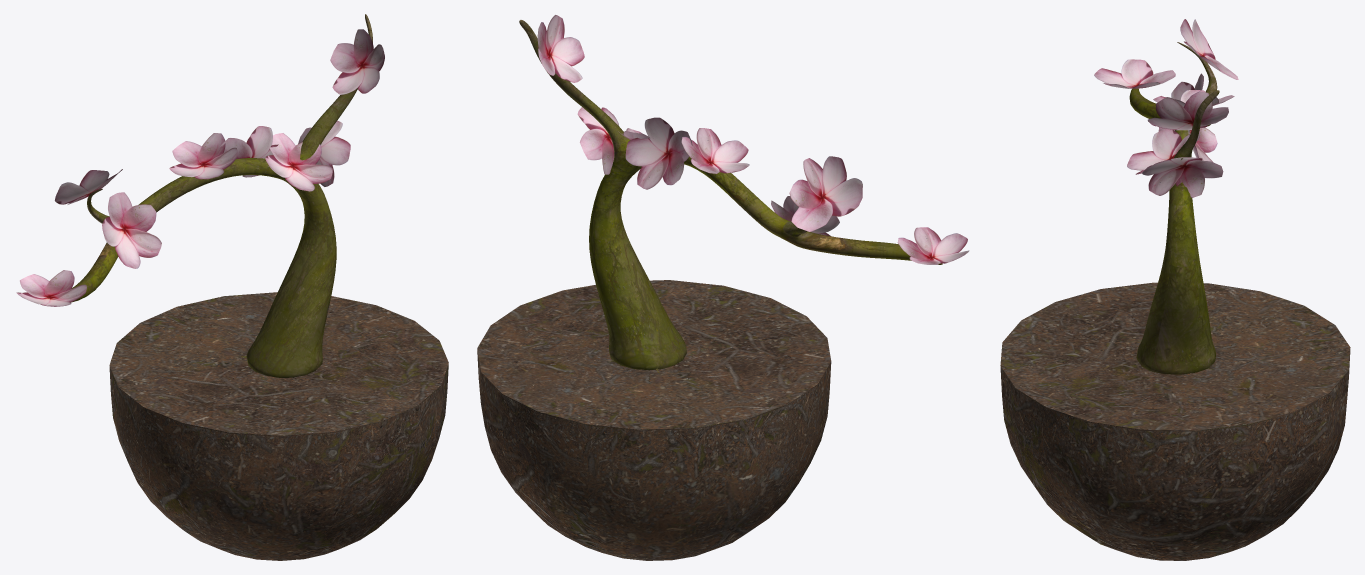
File: cherry-tree.glb
The picture shows the model from 3 angles, left to right: view 1: azimuth 30°, elevation 25°; view 2: azimuth 150°, elevation 25°; view 3: azimuth 270°, elevation 25°; orthographic projection. The views are drawn at different scales.
Parts seen in each view (by area): view 1: curve9.002; view 2: curve9.002; view 3: curve9.002.
Boxes of the visible parts, bbox=[...] form: curve9.002: bbox=[16, 14, 448, 560]; curve9.002: bbox=[477, 15, 969, 560]; curve9.002: bbox=[1000, 19, 1350, 560].
Bounding box in the file's own units: 1.15 × 1.27 × 0.7893.
Materials: 4 (4 with a texture image).
